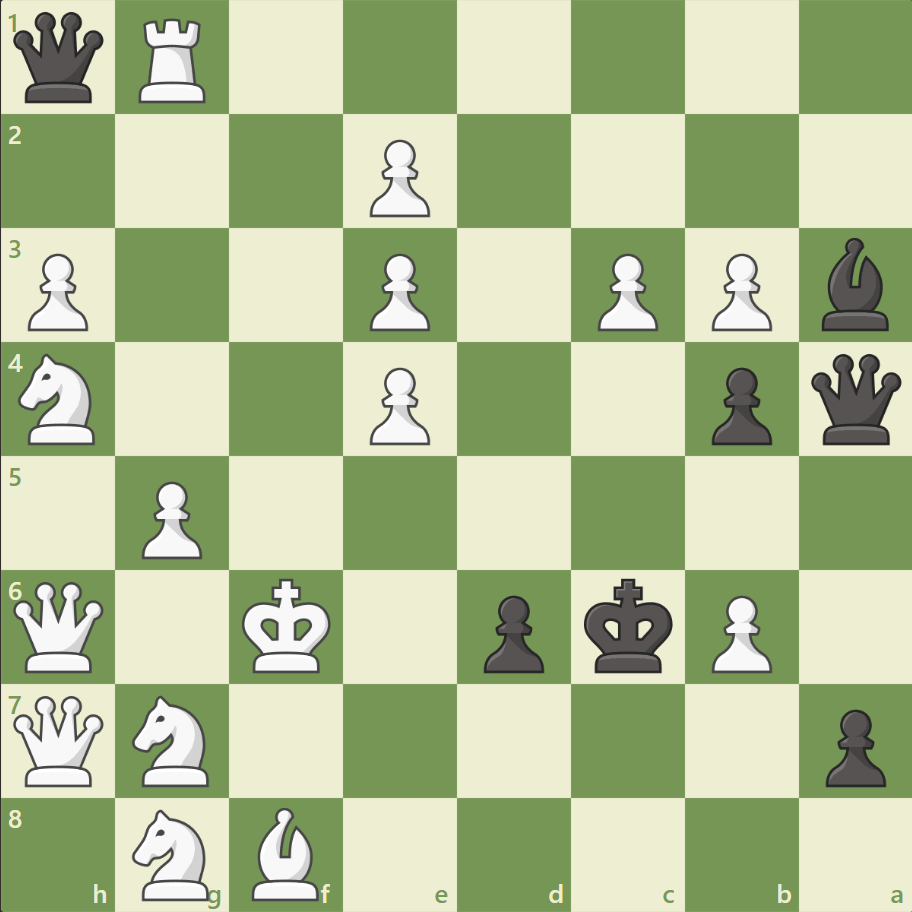B: (244, 801, 328, 904)
K: (238, 571, 338, 679)
N: (124, 688, 222, 791), (124, 802, 222, 904), (11, 348, 108, 450)
P: (701, 586, 776, 677), (133, 473, 208, 564), (701, 246, 776, 337), (20, 246, 95, 337), (361, 359, 435, 450), (588, 246, 662, 337), (361, 246, 435, 337), (361, 132, 435, 223)
Q: (10, 576, 109, 676), (10, 690, 109, 789)
R: (133, 12, 215, 109)
b: (812, 233, 896, 336)
k: (579, 571, 679, 679)
p: (474, 586, 549, 677), (701, 359, 776, 450), (815, 700, 889, 791)
q: (805, 349, 904, 449), (10, 9, 109, 108)
